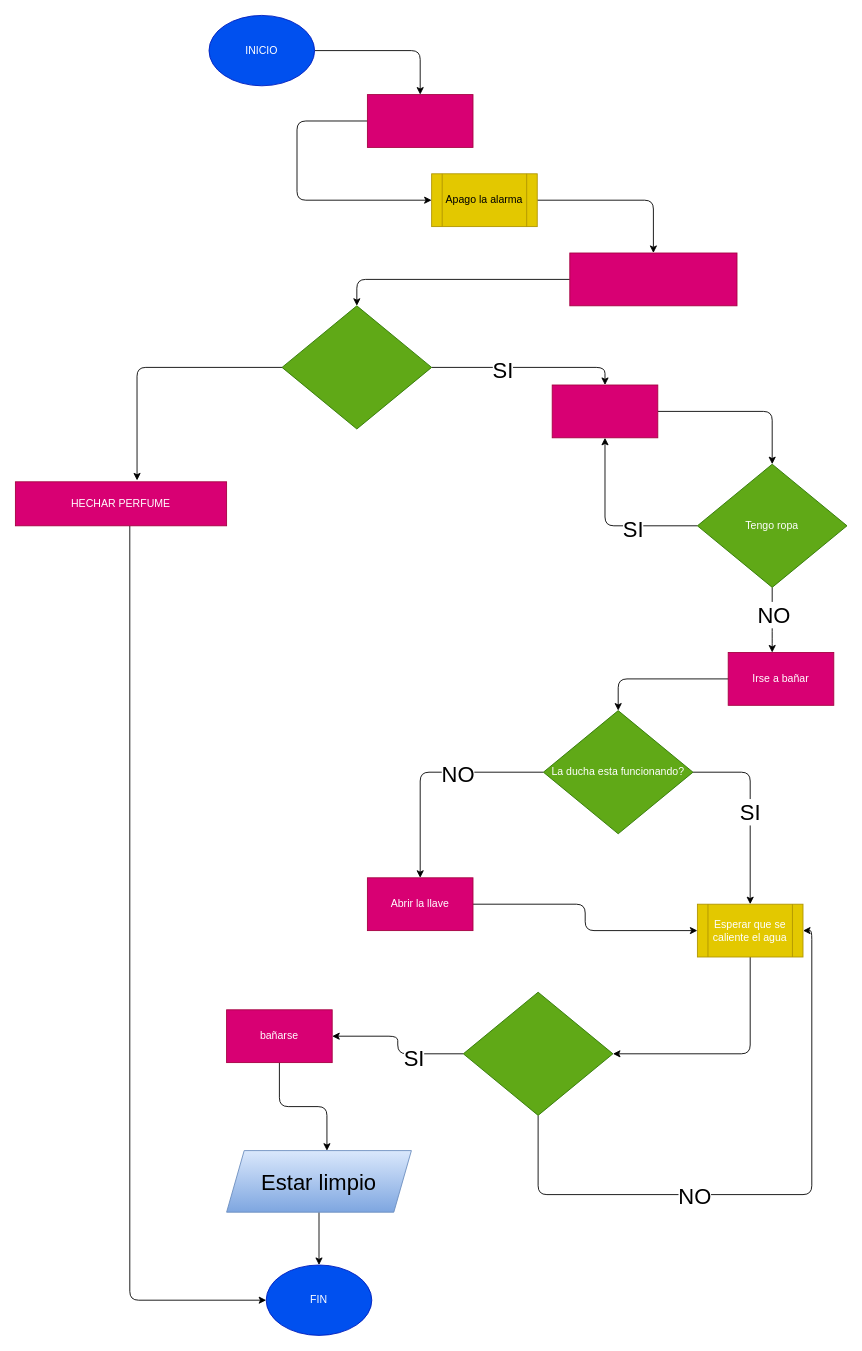
Image size: 862x1351. Some labels were removed from this diagram. The centre of each missing label's shape, as x and y in pixels:
"DESPERTAR" goes at (x=420, y=120).
"El awa esta caliente?" goes at (x=537, y=1053).
"Huelo mal" goes at (x=356, y=367).
"LEVANTARSE DE LA CAMA" goes at (x=653, y=279).
"Quitarme la ropa" goes at (x=604, y=411).
